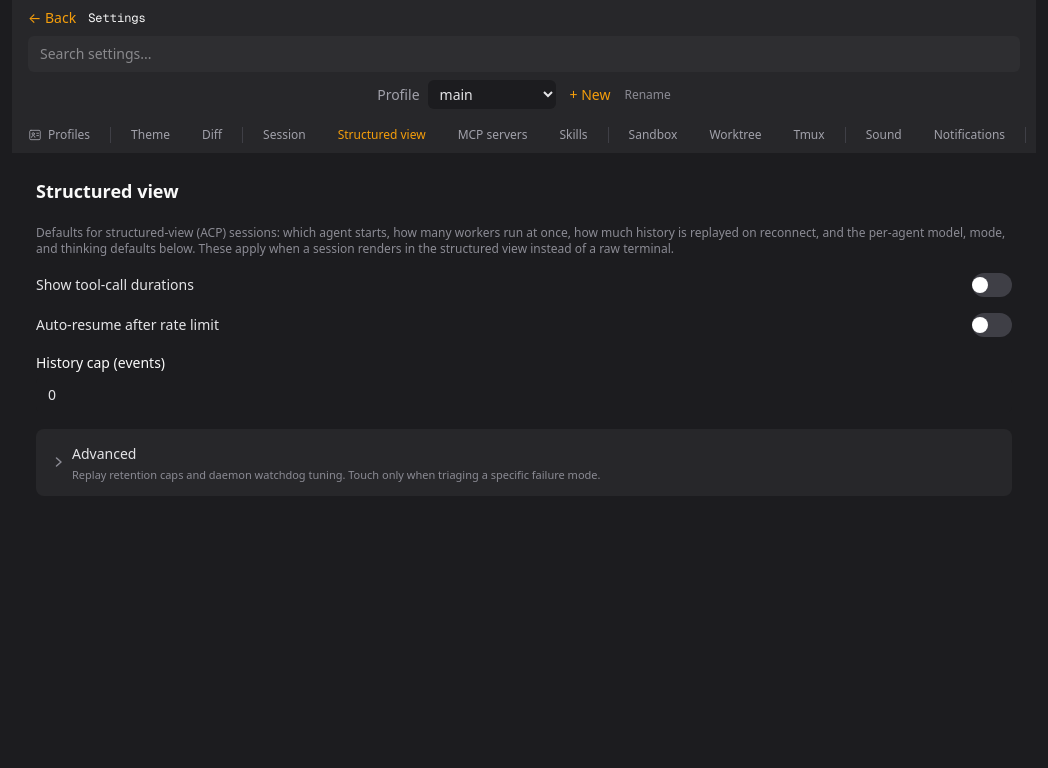
Settings Advanced fold › collapses the fold when switching profiles (#4)
The width and height of the screenshot is (1048, 768).
Expected: the text "Show tool-call durations" is shown, x1=36 y1=275 x2=194 y2=295
Click the button that starts with "Advanced": (104, 454) x1=36 y1=429 x2=1012 y2=496
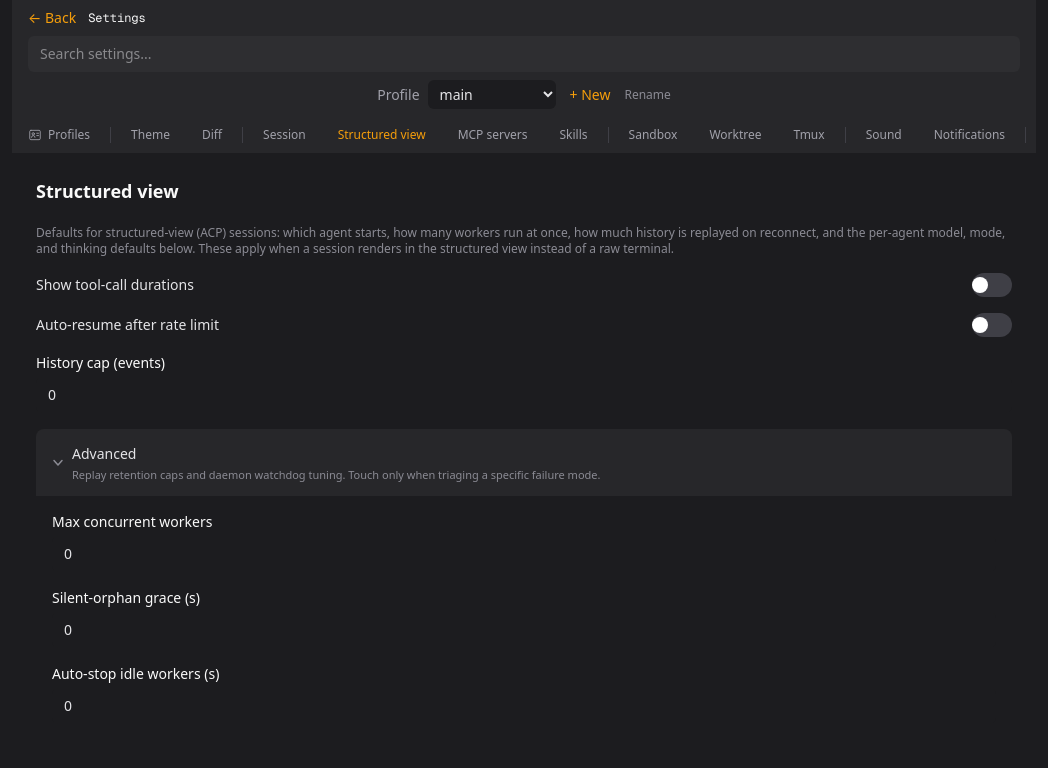
Result: the text "Silent-orphan grace (s)" is shown at x1=52 y1=588 x2=200 y2=606
Select "work" in the 2nd dropdown: (492, 94) x1=428 y1=80 x2=556 y2=109
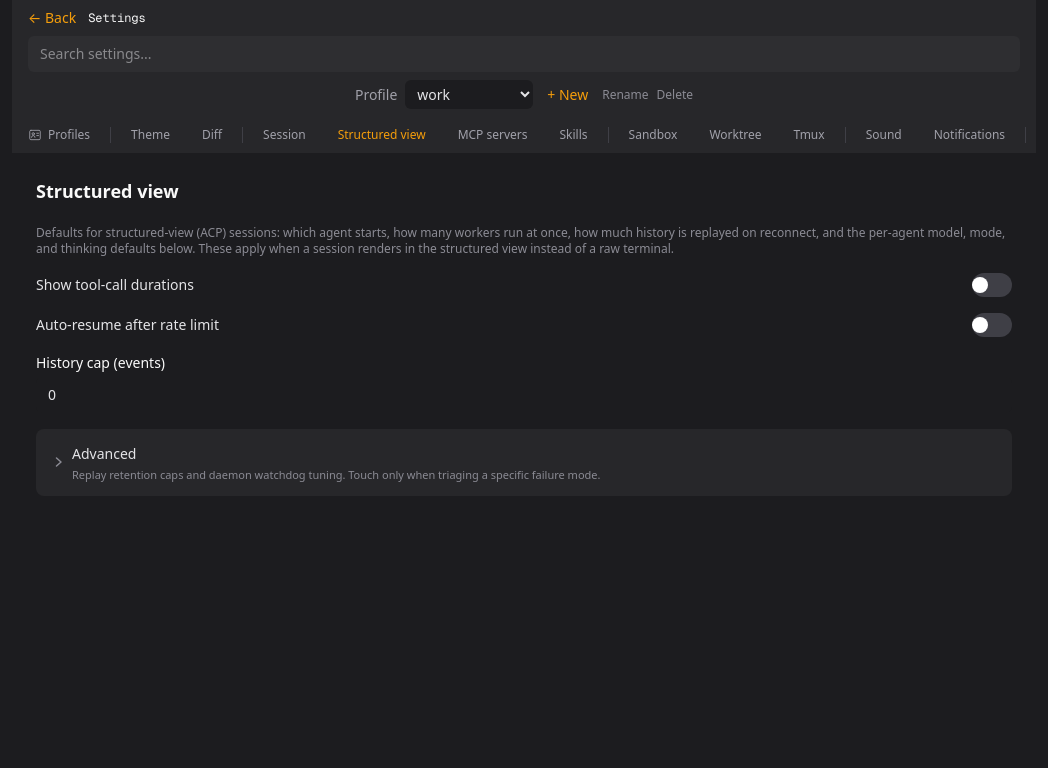
Result: the text "Silent-orphan grace (s)" is gone
